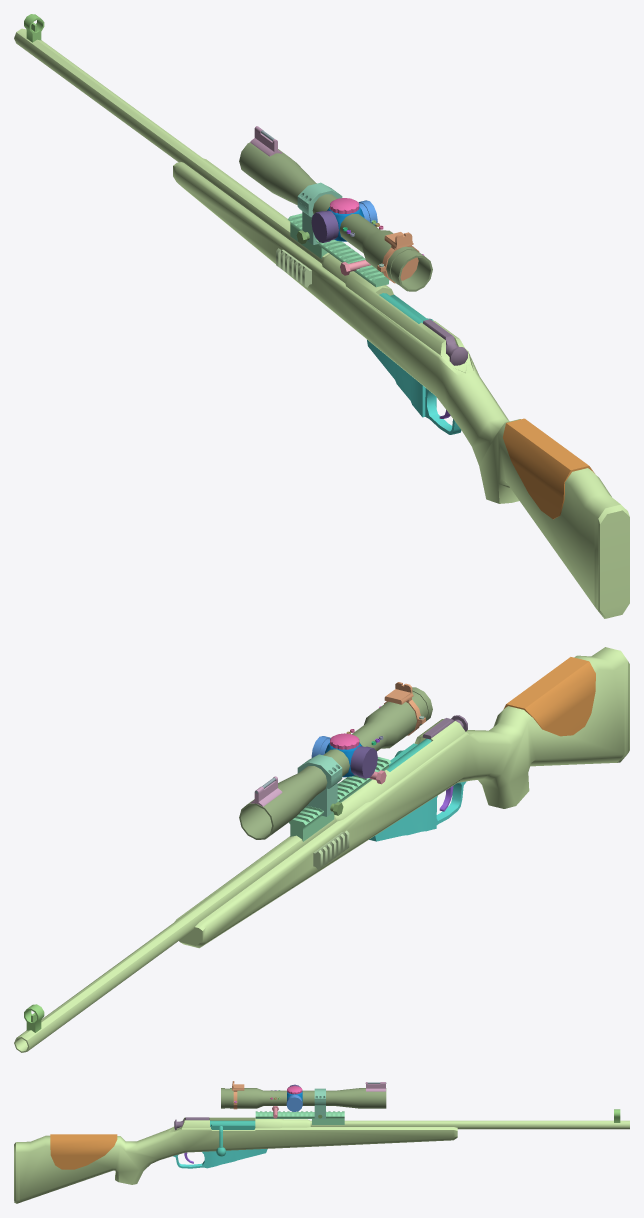
The picture shows the model from 3 angles, top to bottom: view 1: azimuth 30°, elevation 25°; view 2: azimuth 150°, elevation 25°; view 3: azimuth 270°, elevation 25°; orthographic projection. The views are drawn at different scales.
Parts seen in each view (by area): view 1: split_parent_3, split_parent_19, split_parent_8, Trigger_Guard_Magazine_Mosin_Parts_mat_0, Pic_Rail_Top_Mosin_Modern_mat_0, split_parent_18, Rear_Sight_Scope_Mount_Scope_KAL_mat_0.019; view 2: split_parent_3, split_parent_19, split_parent_8, Trigger_Guard_Magazine_Mosin_Parts_mat_0, Pic_Rail_Top_Mosin_Modern_mat_0, split_parent_18, Pic_Rail_Side_Mosin_Modern_mat_0, Dial_Left_Scope_KAL_mat_0, Rear_Sight_Scope_Mount_Scope_KAL_mat_0.019; view 3: split_parent_3, split_parent_19, split_parent_8, Trigger_Guard_Magazine_Mosin_Parts_mat_0, Pic_Rail_Top_Mosin_Modern_mat_0, split_parent_1, split_parent_18, Dial_Right_Scope_KAL_mat_0.
Boxes of the visible parts, box(x1,y1,x2,y2) form: split_parent_3: box(14, 28, 629, 618); split_parent_19: box(239, 142, 432, 291); split_parent_8: box(502, 418, 594, 519); Trigger_Guard_Magazine_Mosin_Parts_mat_0: box(367, 340, 461, 434); Pic_Rail_Top_Mosin_Modern_mat_0: box(288, 213, 389, 287); split_parent_18: box(297, 182, 342, 244); Rear_Sight_Scope_Mount_Scope_KAL_mat_0.019: box(377, 232, 419, 283); split_parent_3: box(14, 647, 629, 1052); split_parent_19: box(239, 687, 432, 839); split_parent_8: box(503, 657, 595, 736); Trigger_Guard_Magazine_Mosin_Parts_mat_0: box(369, 781, 466, 841); Pic_Rail_Top_Mosin_Modern_mat_0: box(289, 757, 391, 841); split_parent_18: box(297, 754, 342, 816); Pic_Rail_Side_Mosin_Modern_mat_0: box(313, 830, 349, 869); Dial_Left_Scope_KAL_mat_0: box(350, 746, 377, 778); Rear_Sight_Scope_Mount_Scope_KAL_mat_0.019: box(384, 682, 425, 735); split_parent_3: box(14, 1117, 629, 1203); split_parent_19: box(221, 1088, 386, 1108); split_parent_8: box(50, 1134, 117, 1169); Trigger_Guard_Magazine_Mosin_Parts_mat_0: box(173, 1149, 267, 1168); Pic_Rail_Top_Mosin_Modern_mat_0: box(255, 1111, 344, 1124); split_parent_1: box(210, 1120, 255, 1156); split_parent_18: box(314, 1088, 325, 1119); Dial_Right_Scope_KAL_mat_0: box(286, 1094, 302, 1111).
Size of the model in its own units: 0.056 by 0.2145 by 1.
